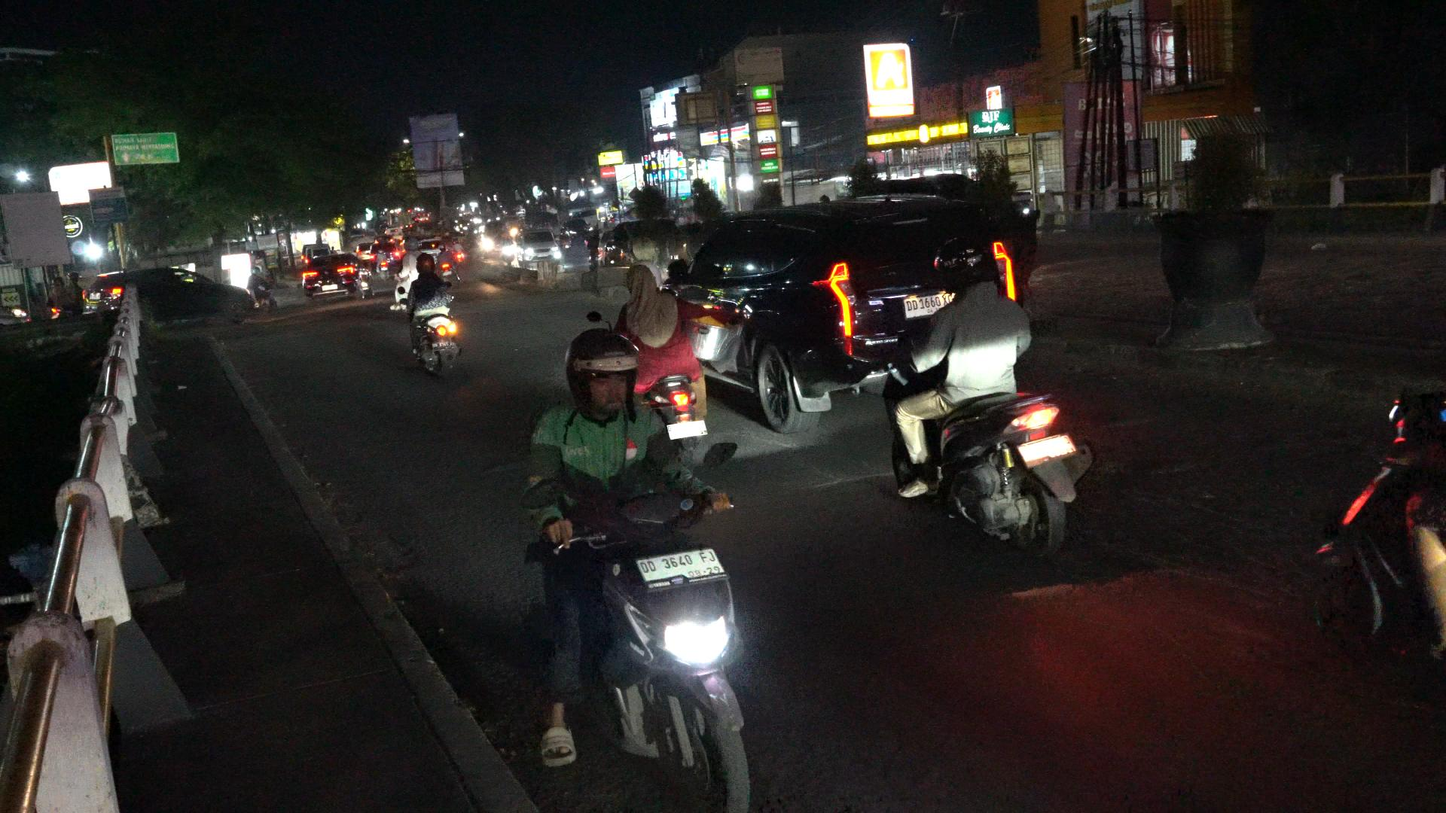number-plate: (633, 549, 727, 589)
